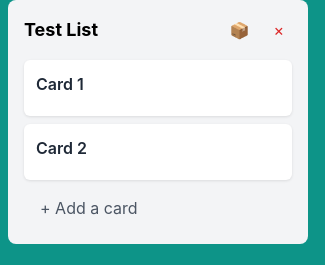
Scenario: ListColumn › allows adding a card
This screenshot has width=325, height=265.
Click the button "+ Add a card": {"x": 89, "y": 208} top-left (24, 188), bottom-right (292, 228)
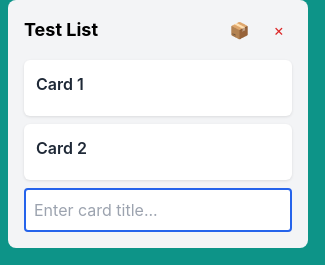
Result: the field with placeholder "Enter card title..." is shown at top-left (24, 188), bottom-right (292, 232)
